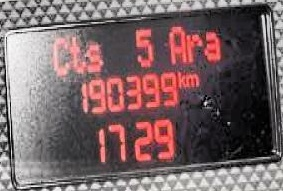0: (105, 75, 125, 111)
1: (91, 122, 107, 167), (77, 78, 87, 115)
2: (131, 118, 150, 162)
3: (123, 71, 139, 110)
5: (132, 23, 153, 68)
7: (107, 120, 126, 163)
9: (152, 113, 174, 160), (141, 70, 160, 108), (159, 68, 177, 107), (87, 75, 104, 113)
X: (50, 32, 70, 77), (166, 21, 185, 65), (68, 32, 84, 77), (201, 28, 222, 62), (84, 38, 103, 75), (185, 28, 201, 63), (183, 70, 202, 88), (176, 63, 185, 87)
